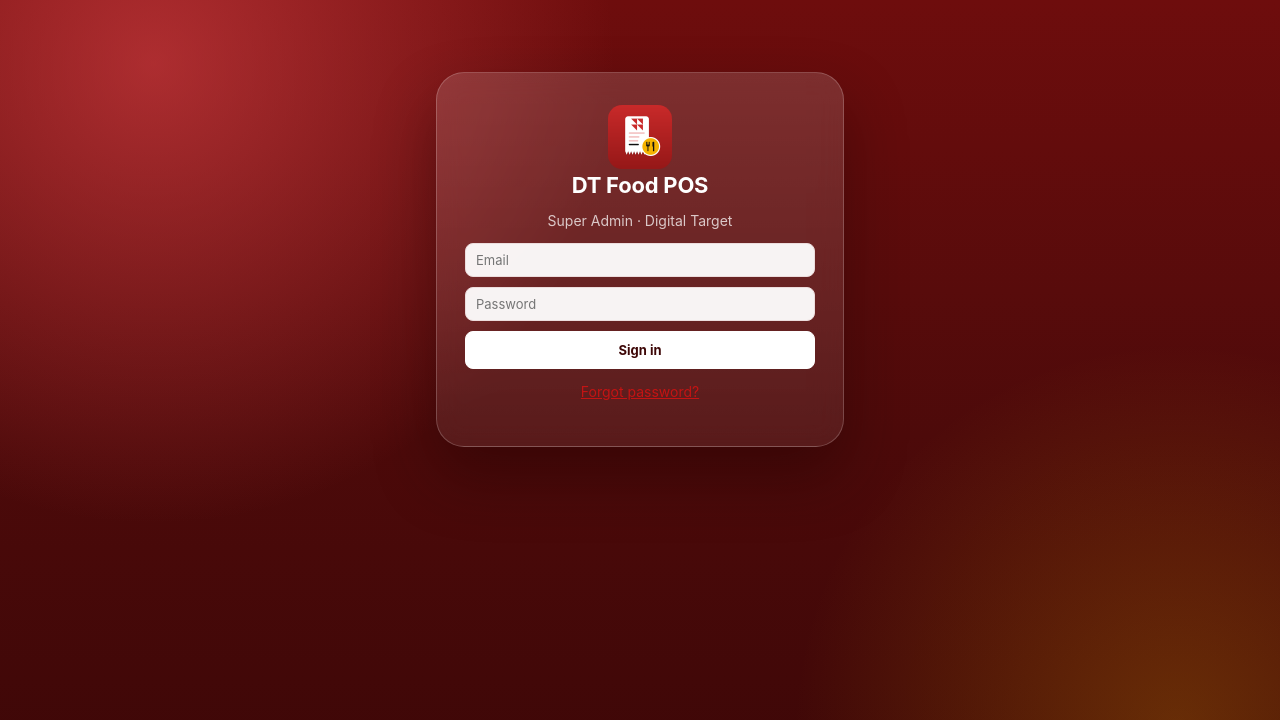
Scenario: panel › shows the sign-in form when signed out and surfaces errors
Click the button "Sign in": click(640, 350) [465,331,815,369]
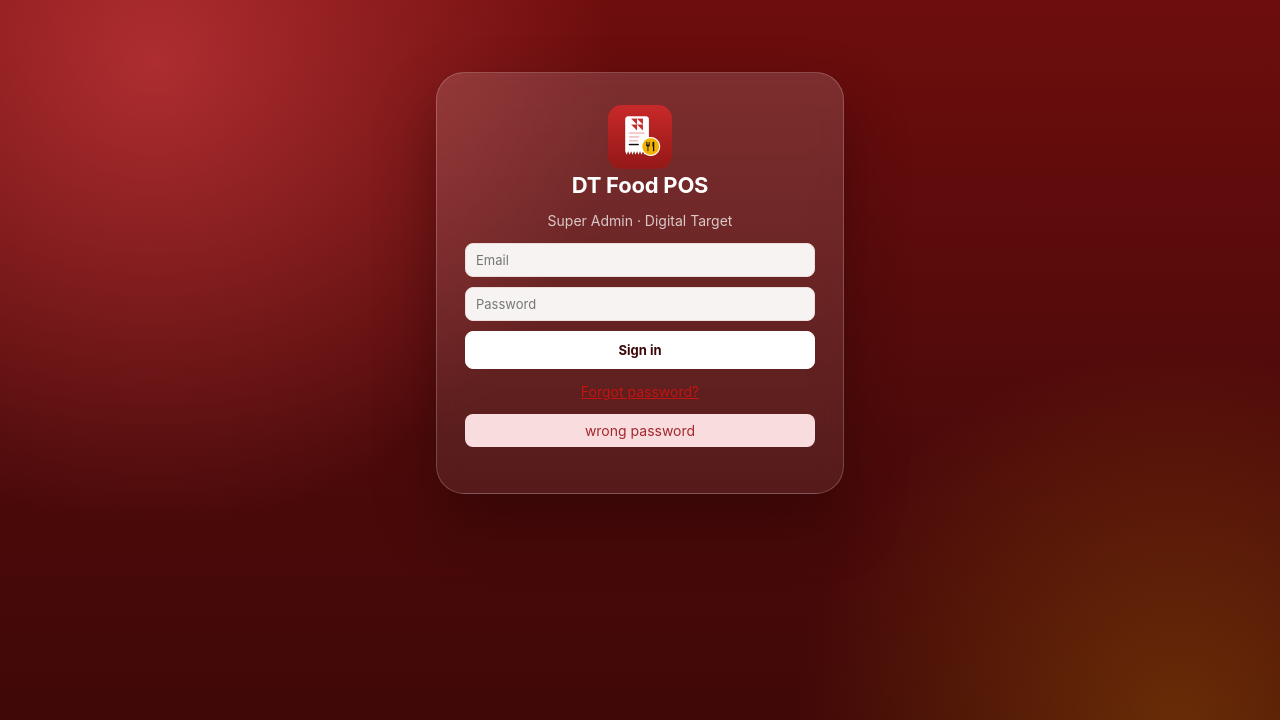
Expected: the message reads "wrong password", [585,422,695,439]
